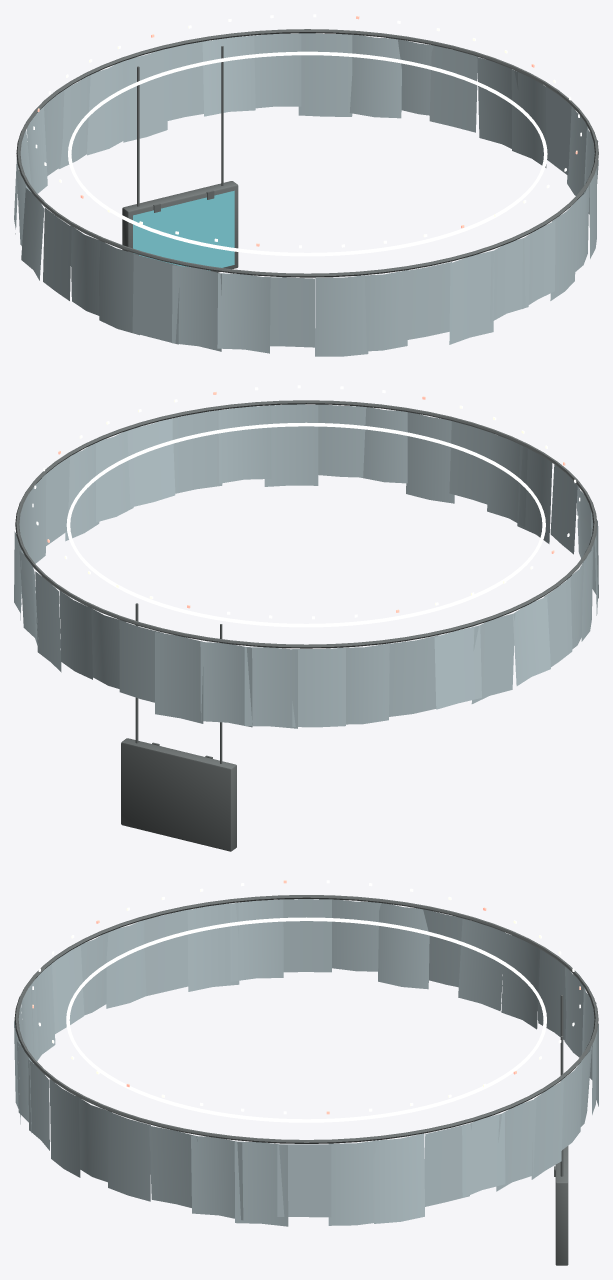
Rendered from CyberSurgeryKit.fbx.
3 views of the same model, one above another, from view 1: azimuth 30°, elevation 25°; view 2: azimuth 150°, elevation 25°; view 3: azimuth 270°, elevation 25° (orthographic).
Parts seen in each view (by area): view 1: CY_Curtain, CY_CurtainRail, CY_FilmViewer_Film, CY_RingNeon, CY_FilmViewer; view 2: CY_Curtain, CY_FilmViewer, CY_CurtainRail, CY_RingNeon; view 3: CY_Curtain, CY_CurtainRail, CY_RingNeon, CY_FilmViewer.
Part boxes in pixels (x1,y1,x2,y2): CY_Curtain: (14,33,598,356); CY_CurtainRail: (16,29,598,277); CY_FilmViewer_Film: (133,190,234,270); CY_RingNeon: (68,51,547,256); CY_FilmViewer: (122,46,238,272); CY_Curtain: (14,404,598,728); CY_FilmViewer: (121,603,236,851); CY_CurtainRail: (15,400,597,648); CY_RingNeon: (66,422,545,627); CY_Curtain: (14,899,598,1226); CY_CurtainRail: (14,895,598,1143); CY_RingNeon: (66,917,546,1122); CY_FilmViewer: (554,995,568,1265).
Size of the model in its own units: 2.29 by 1.05 by 2.28.
